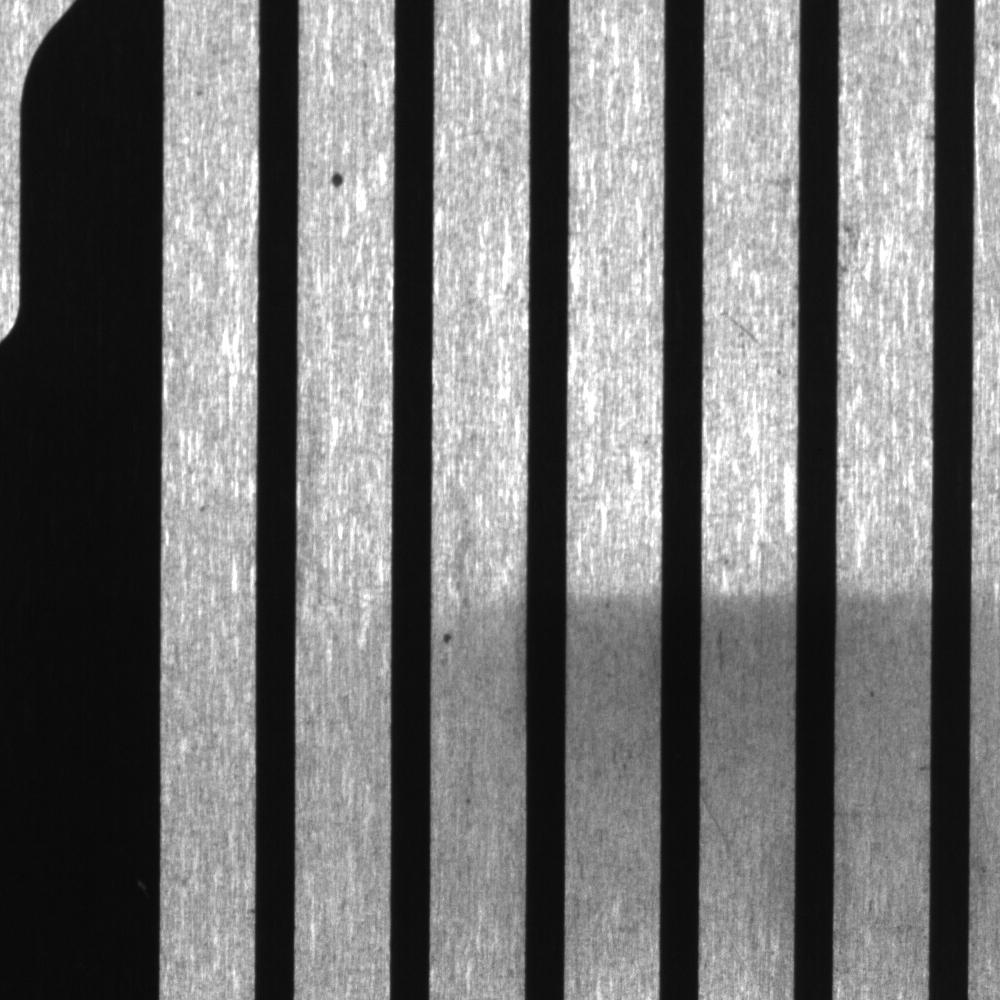Etching: (435, 619, 466, 658)
Pinhole: (313, 152, 365, 210)
Scar: (298, 562, 390, 629), (700, 774, 744, 874), (714, 293, 774, 366)
